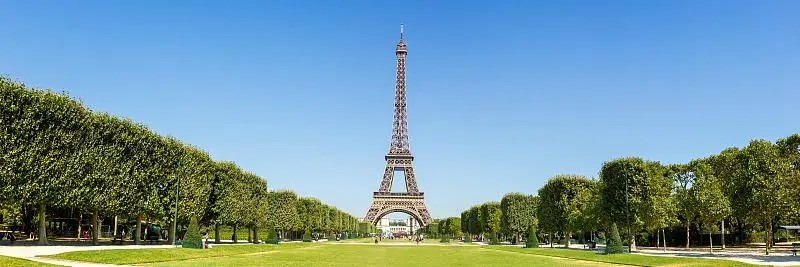Eiffel: (362, 23, 434, 234)
